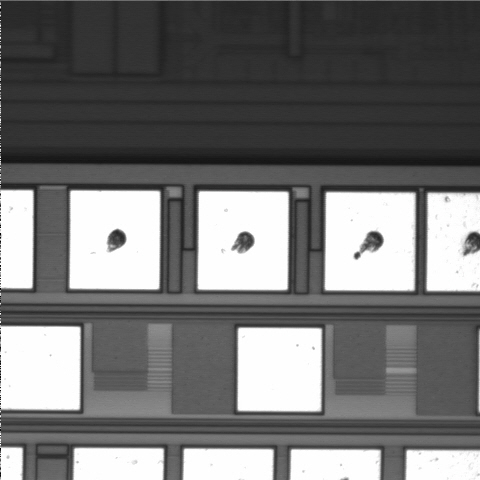pad: (198, 191, 289, 290), (325, 192, 415, 291), (70, 191, 160, 289), (238, 328, 322, 411)
